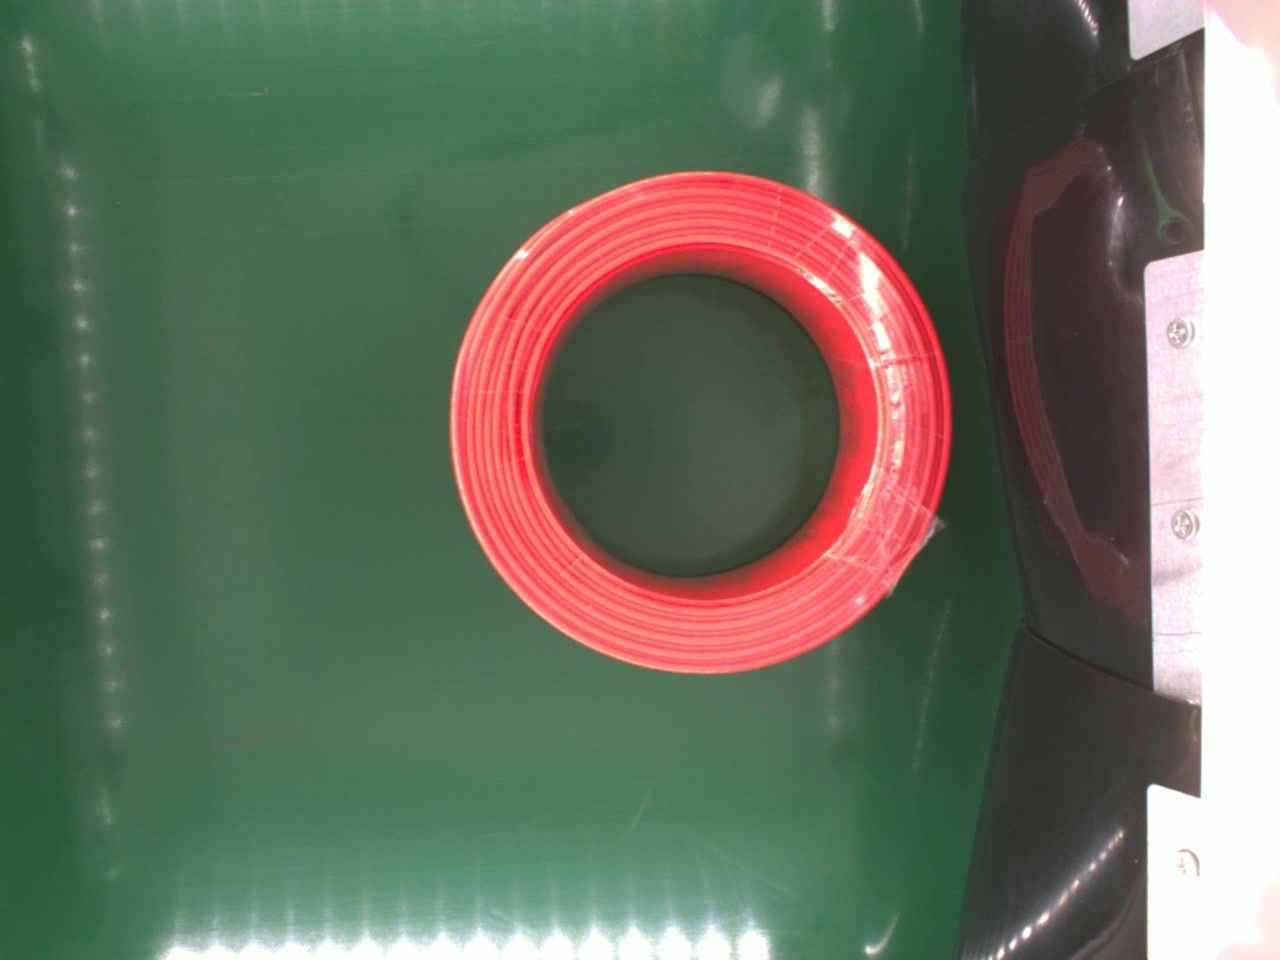red: (447, 167, 949, 672)
